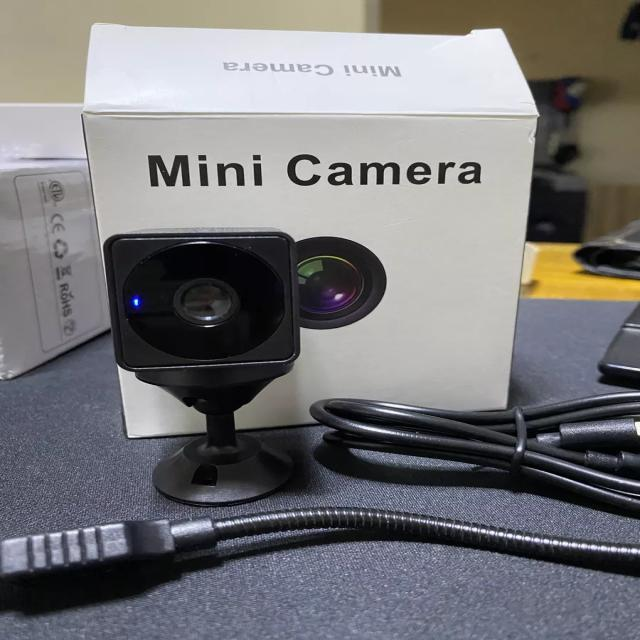hidden camera: (171, 279, 241, 328)
